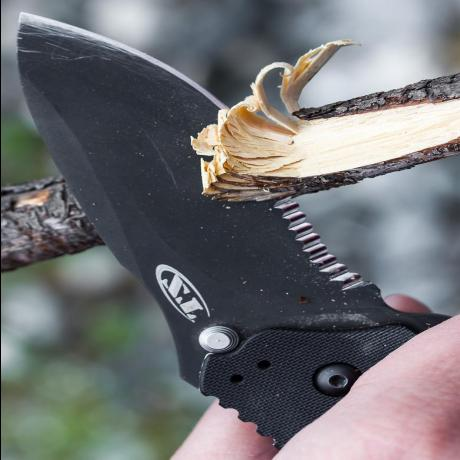weapon: (13, 8, 378, 426)
